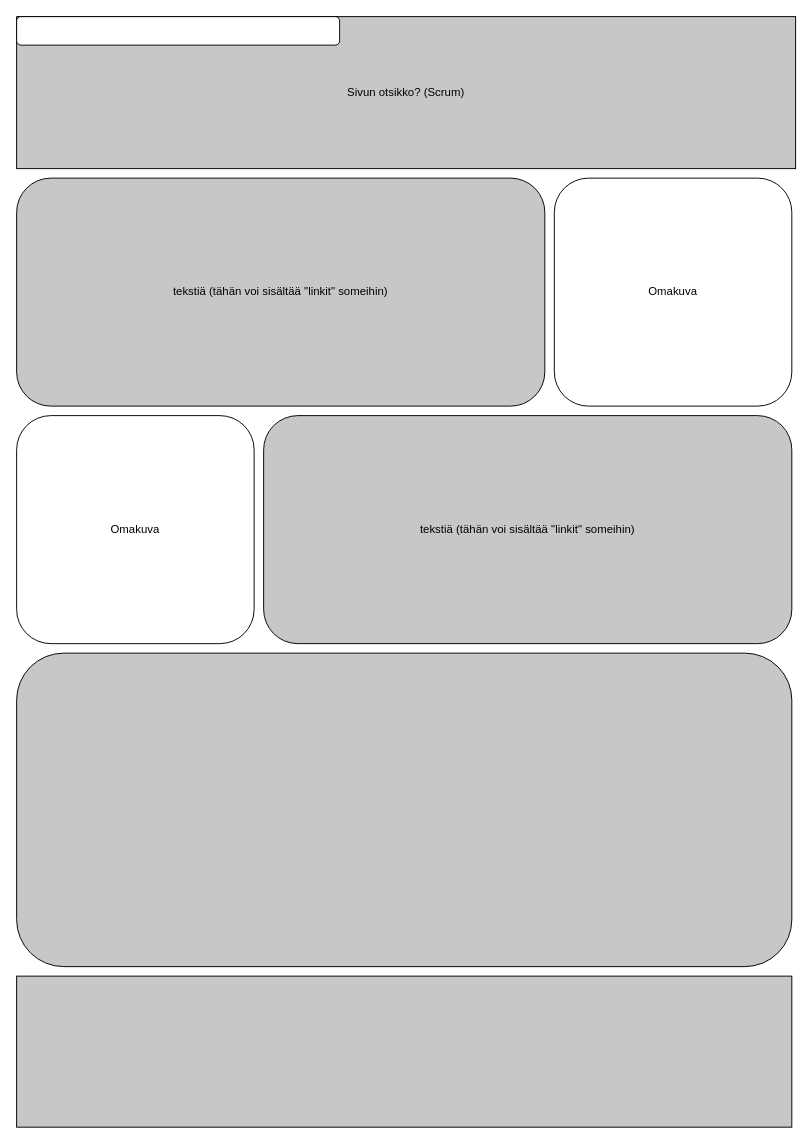
Some shapes in this 812 by 1144 pixel diagram are drawn without their labels. Each missing label, with the centre of its shape:
Footer (nimet, osoitteet, somet, linkit?): [404,1051]
Selitys Scrumin ideologiasta? (Lorem Ipsum): [404,809]
Valikko?: [178,30]
